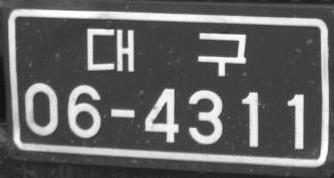0: (24, 81, 58, 135)
1: (235, 91, 272, 147), (281, 94, 314, 150)
3: (188, 89, 223, 145)
4: (144, 88, 178, 142)
6: (67, 84, 101, 139)
대구_D: (86, 26, 246, 78)
